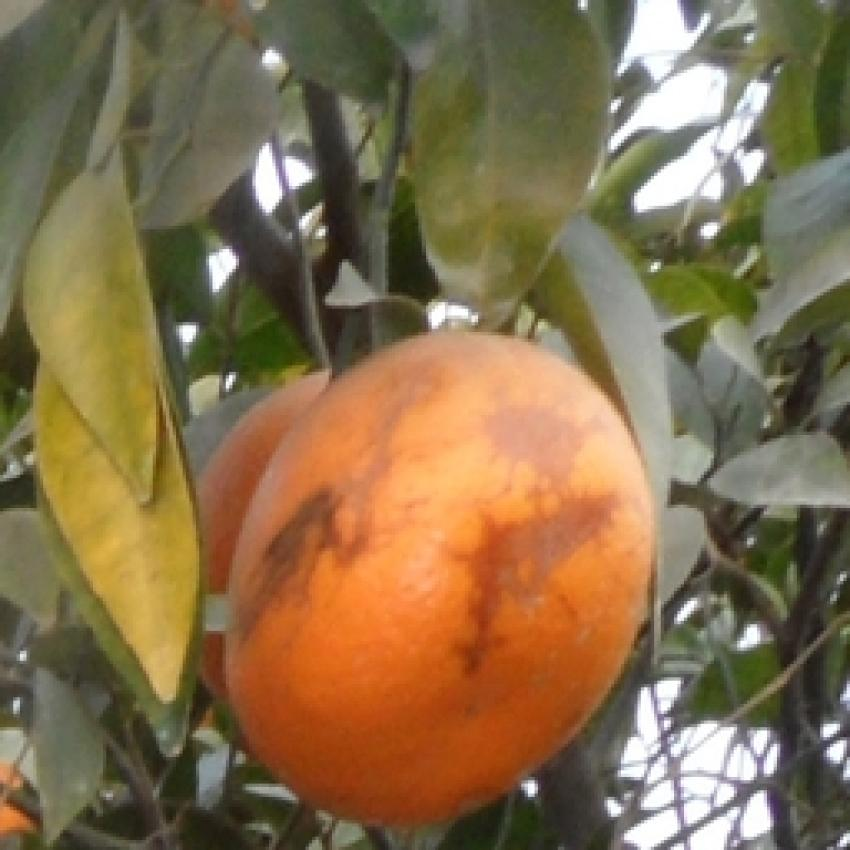Mal estado: (209, 324, 662, 830)
